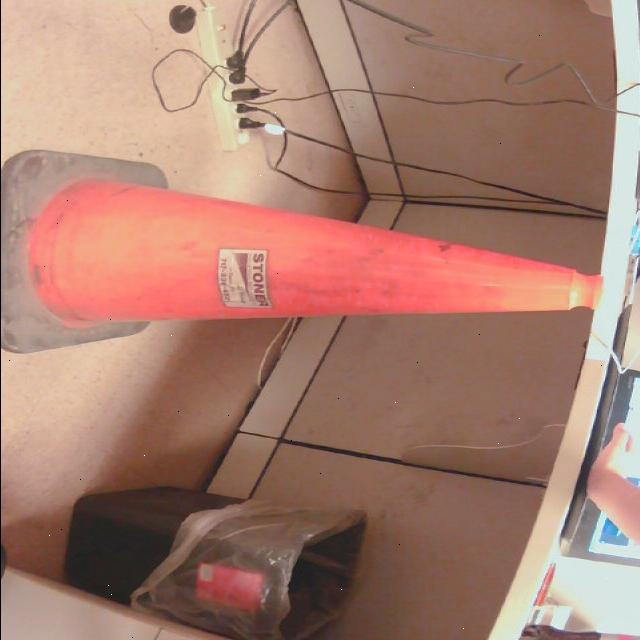traffic cone: (1, 150, 601, 356)
